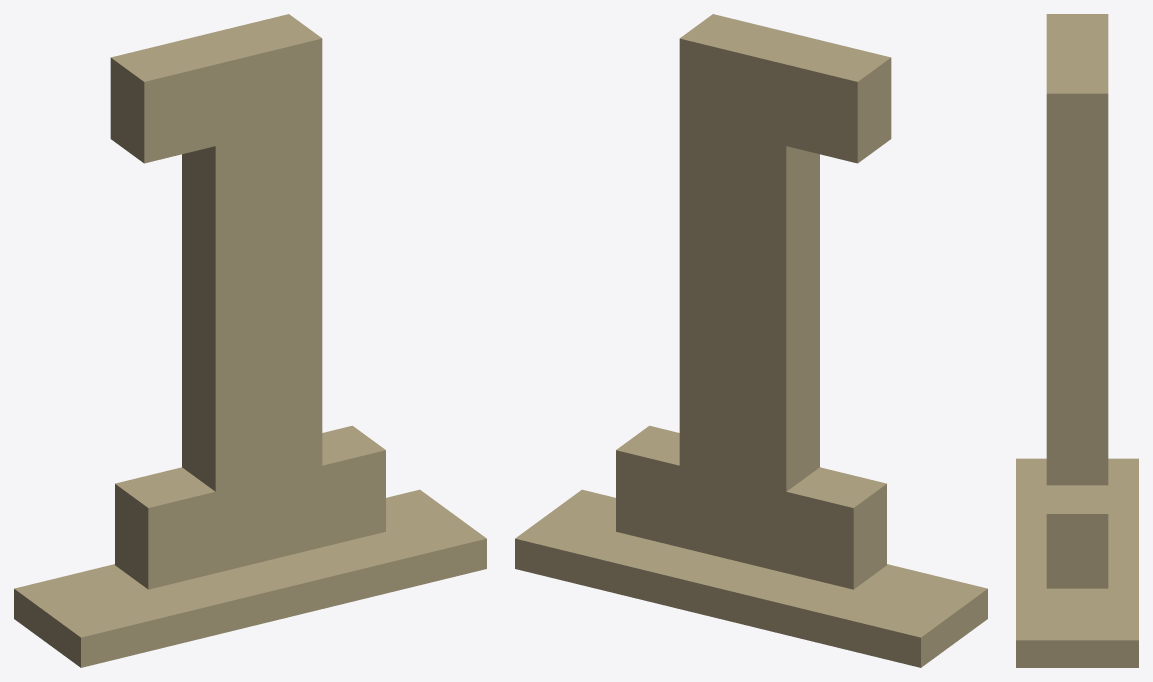
The model's file is num_1.glb.
3 renders of one model, left to right at view 1: azimuth 30°, elevation 25°; view 2: azimuth 150°, elevation 25°; view 3: azimuth 270°, elevation 25°, orthographic. The views are drawn at different scales.
Visible parts, largest first — view 1: num_1; view 2: num_1; view 3: num_1.
Boxes of the visible parts, x1,y1,x2,y2 form: num_1: [14, 14, 486, 667]; num_1: [515, 14, 987, 667]; num_1: [1016, 14, 1138, 667].
Bounding box in the file's own units: 1.4 × 1.83 × 0.4.
